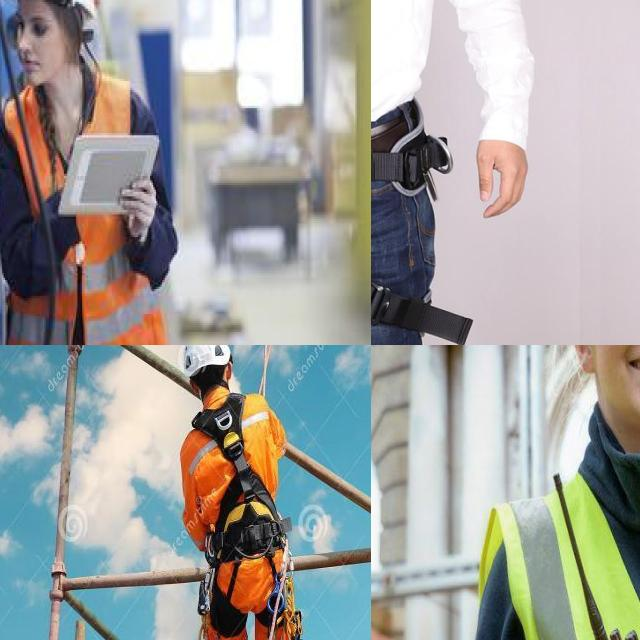Harness: (193, 393, 290, 566)
No_Ear-Protection: (565, 345, 601, 379)
No_Glasses: (16, 5, 53, 51)
face_nomask: (12, 0, 73, 85), (583, 345, 640, 420)
hand_noglove: (121, 171, 167, 253)
person: (0, 0, 185, 345), (462, 345, 640, 640)
vest: (3, 78, 165, 345), (490, 484, 640, 640)
